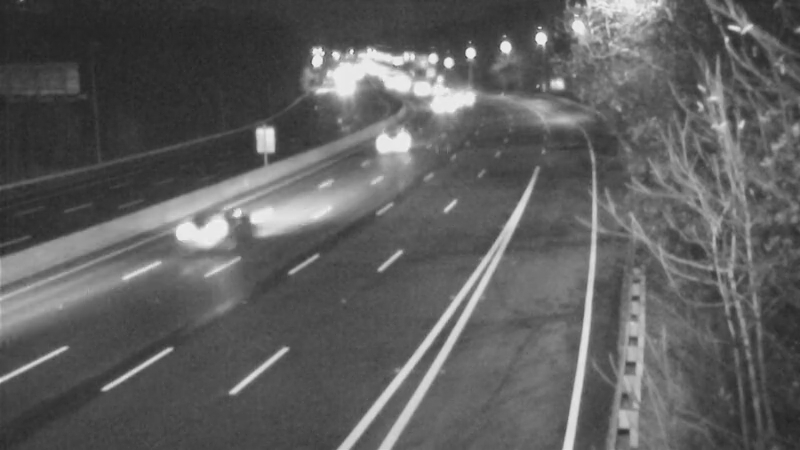vehicle: (163, 193, 243, 273), (438, 69, 488, 119), (421, 79, 471, 129), (361, 113, 411, 163)
